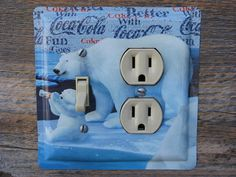outlet: (129, 55, 155, 83), (129, 104, 153, 132)
